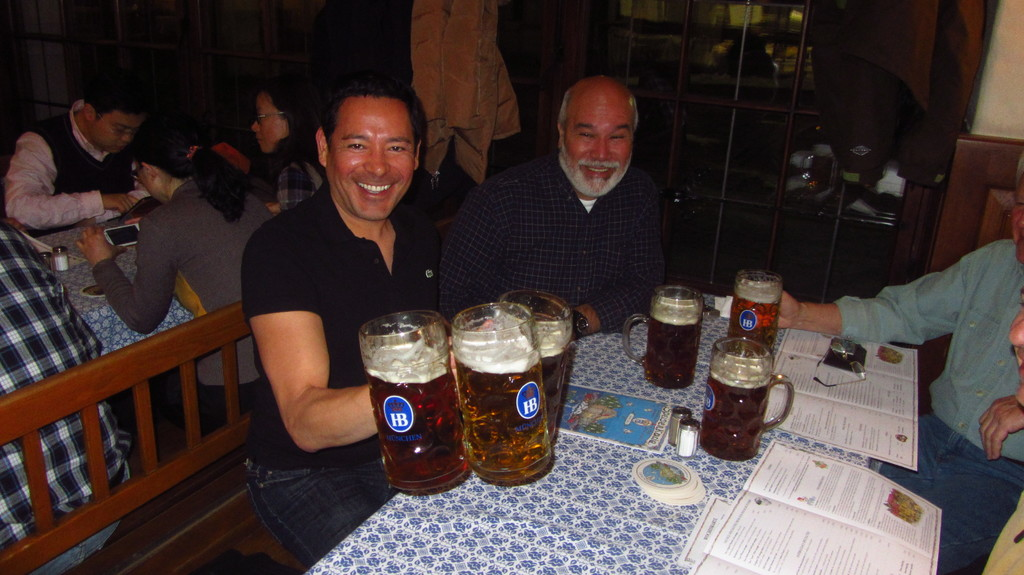Beer: (360, 303, 452, 477), (453, 337, 552, 486), (697, 380, 766, 460), (643, 304, 691, 386), (536, 317, 570, 419), (728, 289, 777, 356)
